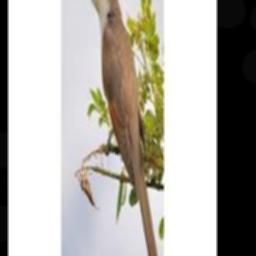Cuckoo: (83, 0, 161, 256)
